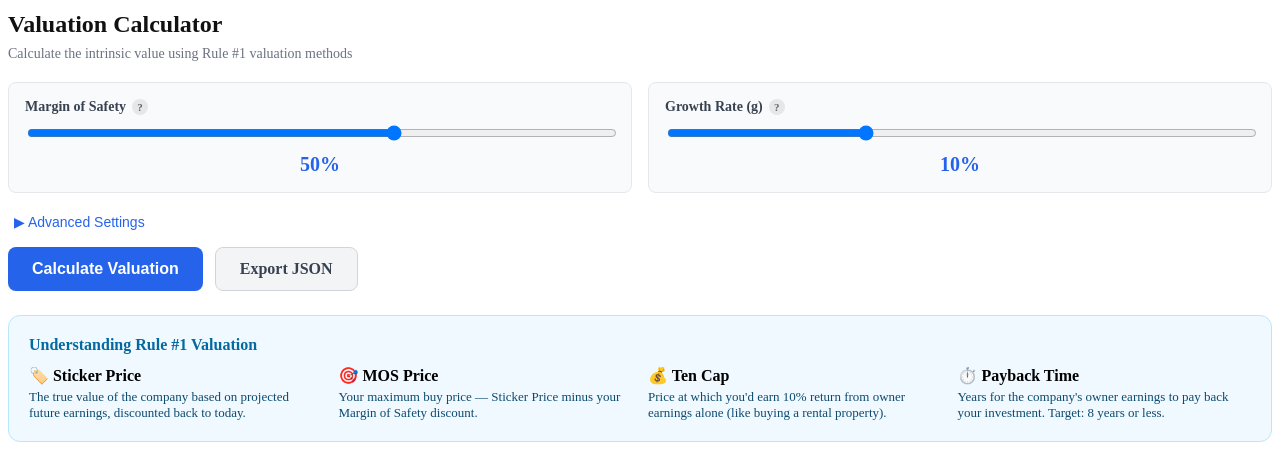
Test: ValuationPanel › Valuation Calculation › displays loading state during calculation
This screenshot has width=1280, height=459.
Click the button "Calculate Valuation".
click(105, 269)  # box [8,247,203,291]
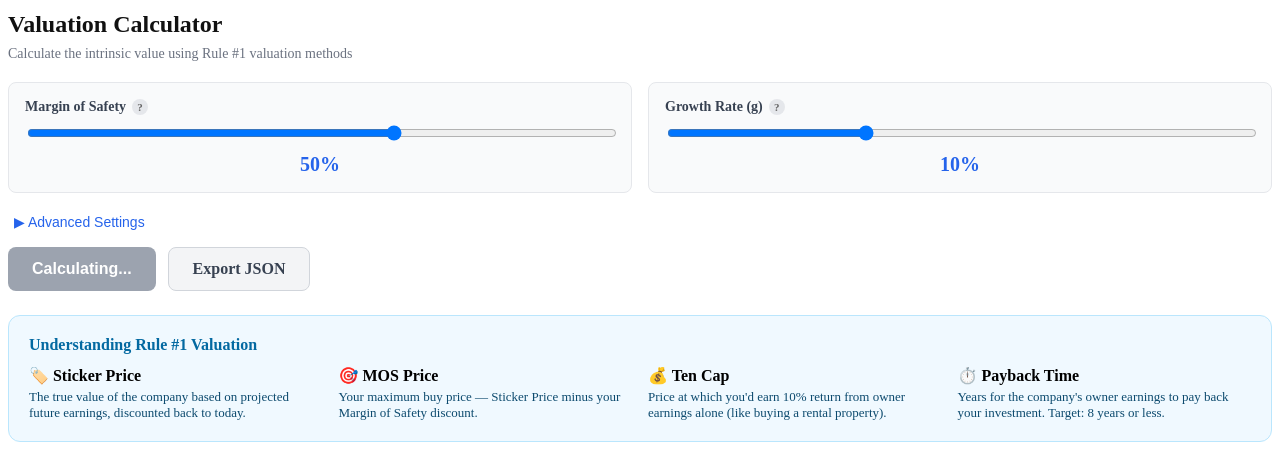
Expected: the button "Calculating..." is shown, [8,247,156,291]
